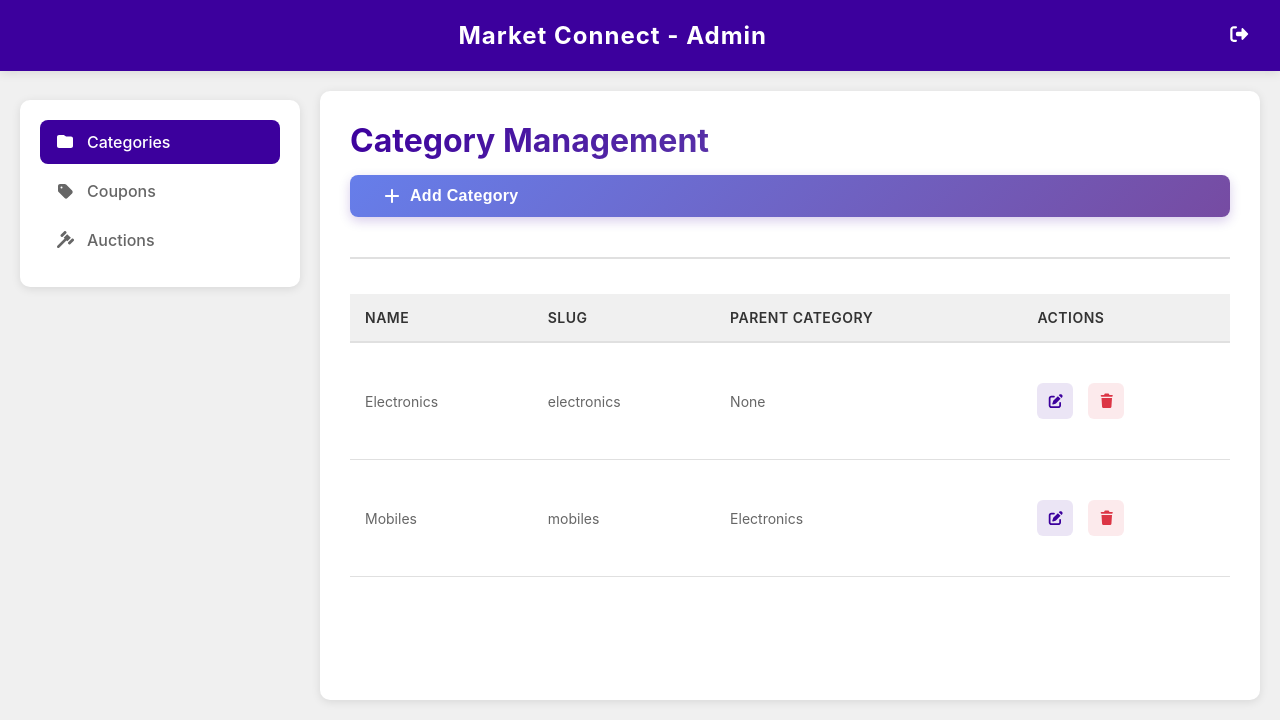
AdminDashboard Component › opens category modal when add button clicked
Click the button "Add Category". click: [464, 196]
box: [350,175,1230,217]
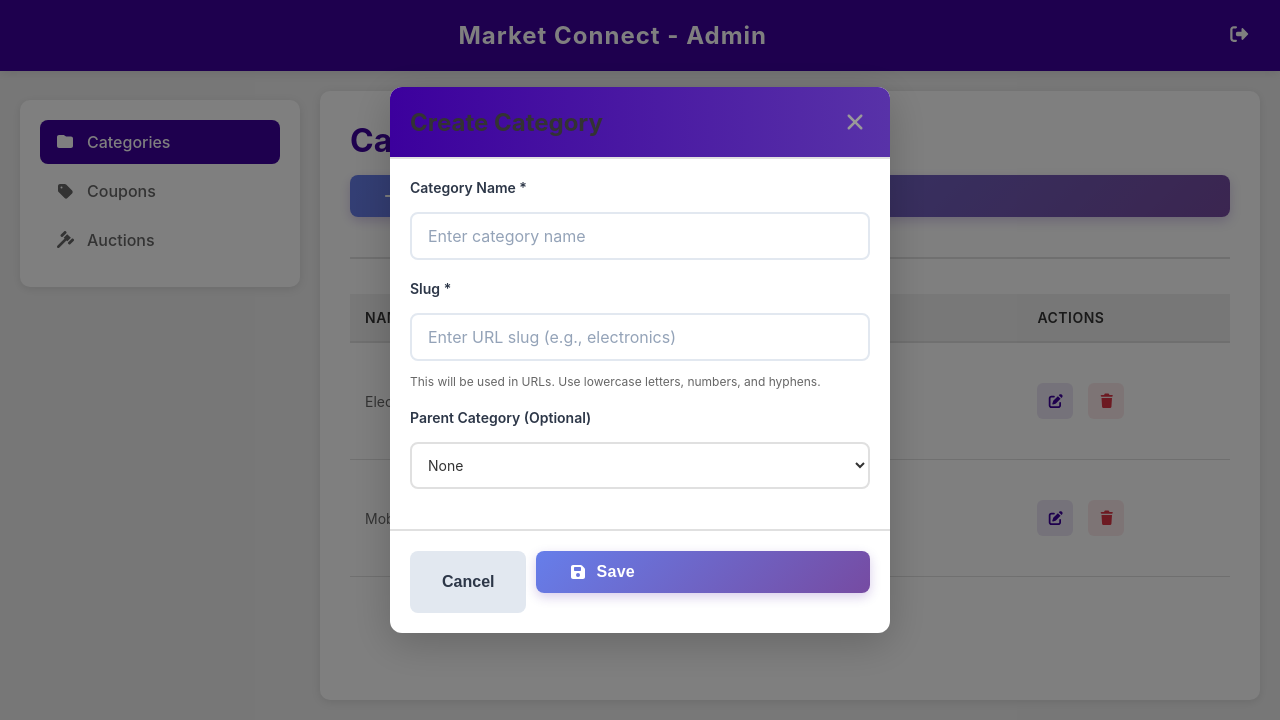
Result: the heading "Create Category" is shown at [410,108,603,136]
